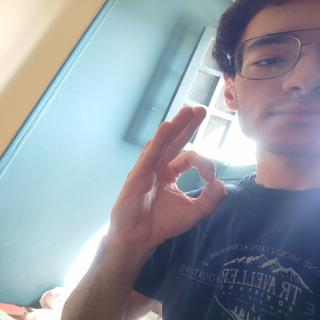Space: (108, 105, 228, 264)
